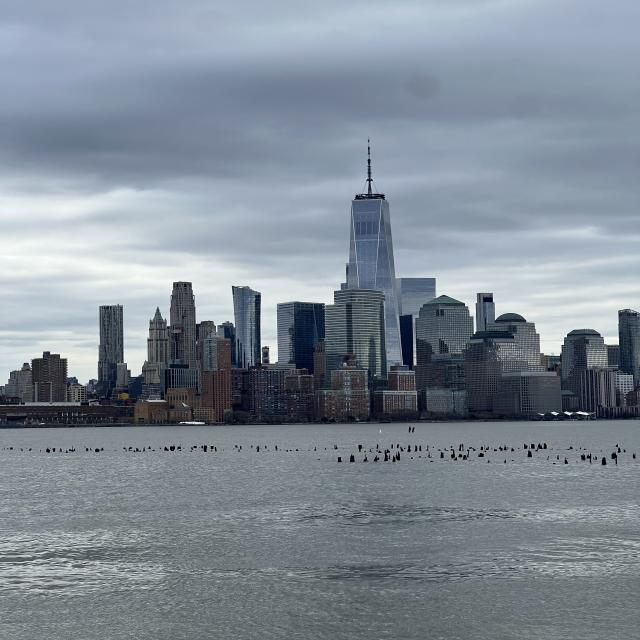WTC: (346, 134, 396, 291)
